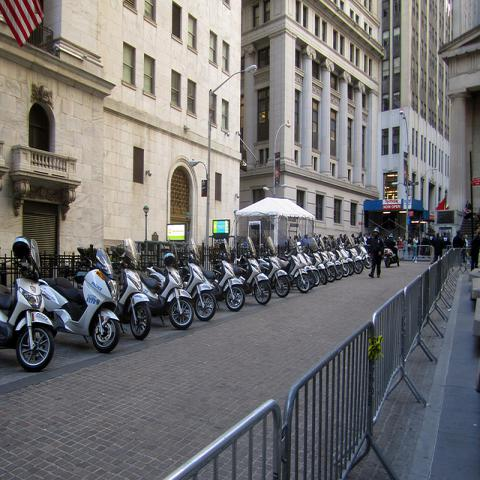motorcycle: (164, 233, 396, 289), (39, 246, 120, 348), (0, 236, 59, 374), (146, 238, 217, 321), (112, 238, 153, 340), (213, 235, 273, 304), (141, 262, 193, 332), (205, 237, 244, 312), (266, 236, 291, 300), (276, 253, 310, 293), (318, 237, 337, 282), (308, 248, 328, 285), (303, 253, 319, 286), (334, 250, 350, 277)
